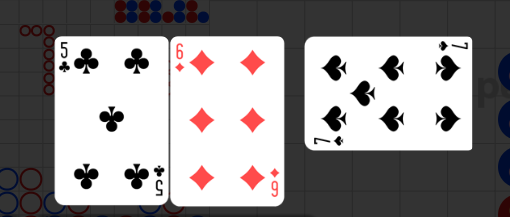5C: (58, 41, 72, 75)
6D: (269, 166, 281, 198)
7S: (436, 40, 469, 53)
